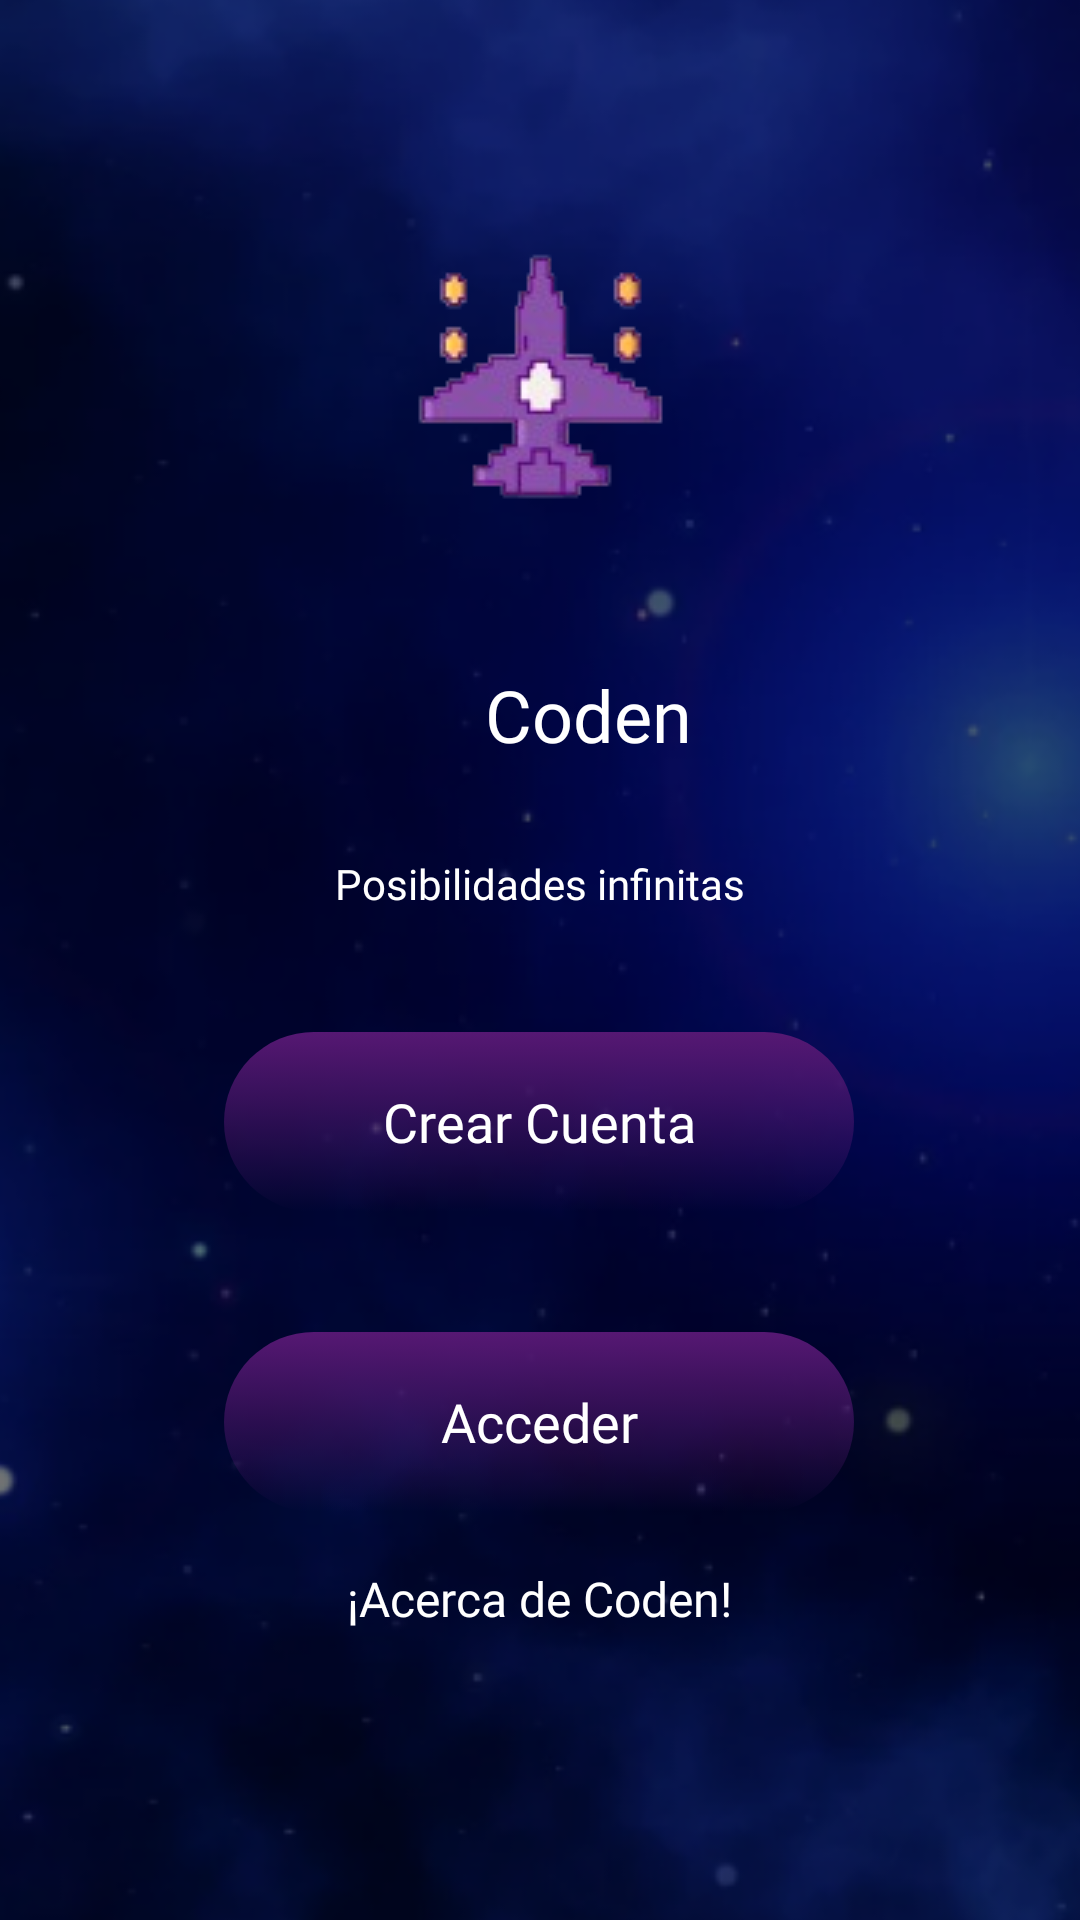

Named icons in this screenshot (1080px x 1920px) and their bounding boxes, box(x1, y1, x2, y2):
avi: box(418, 254, 720, 527)
